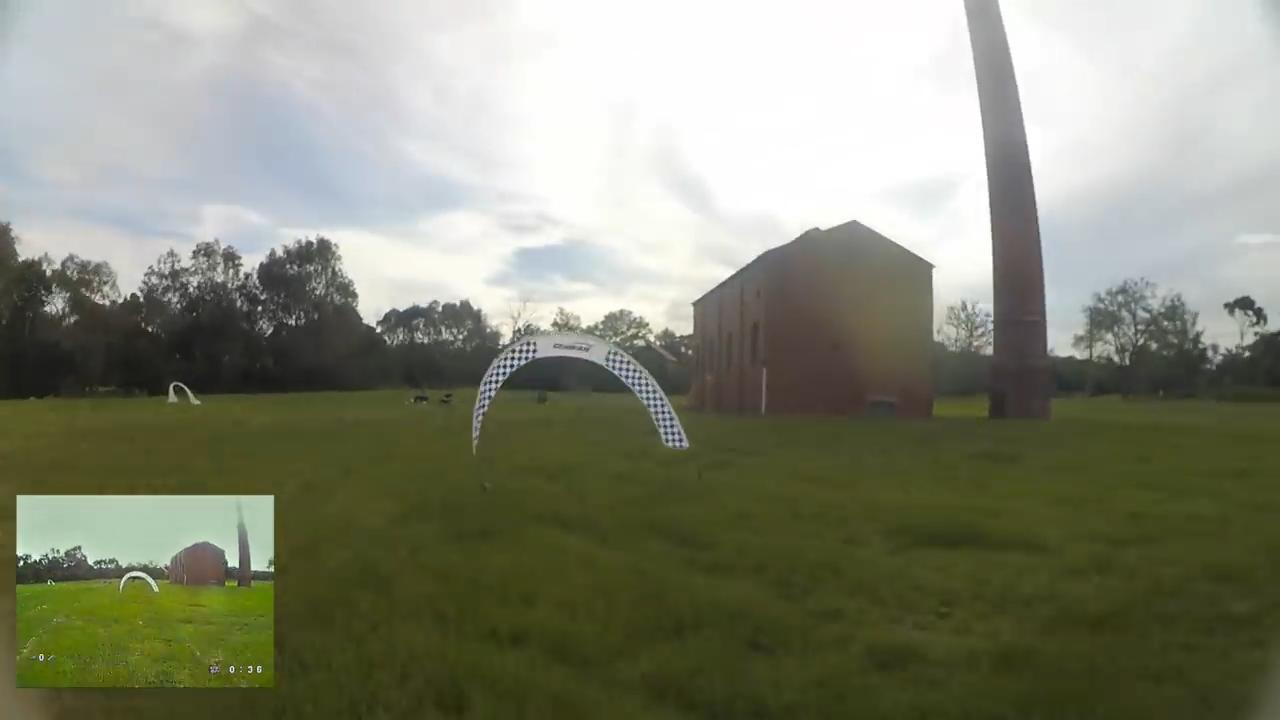gate: (462, 332, 691, 460)
